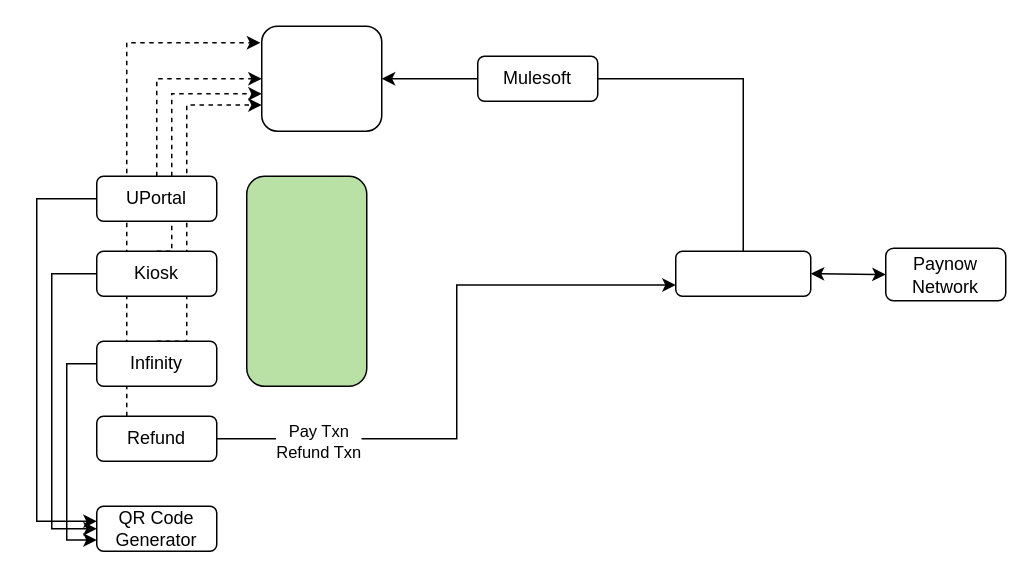
Image size: 1032x579. Some labels were removed from this diagram. Each missing label, with the box of its shape:
Customer's Paynow Mobile Client will scan QR: (245, 175, 367, 386)
Paynow Notifications Queue / Listener: (260, 25, 382, 131)
UOB Paynow System: (674, 250, 811, 296)
